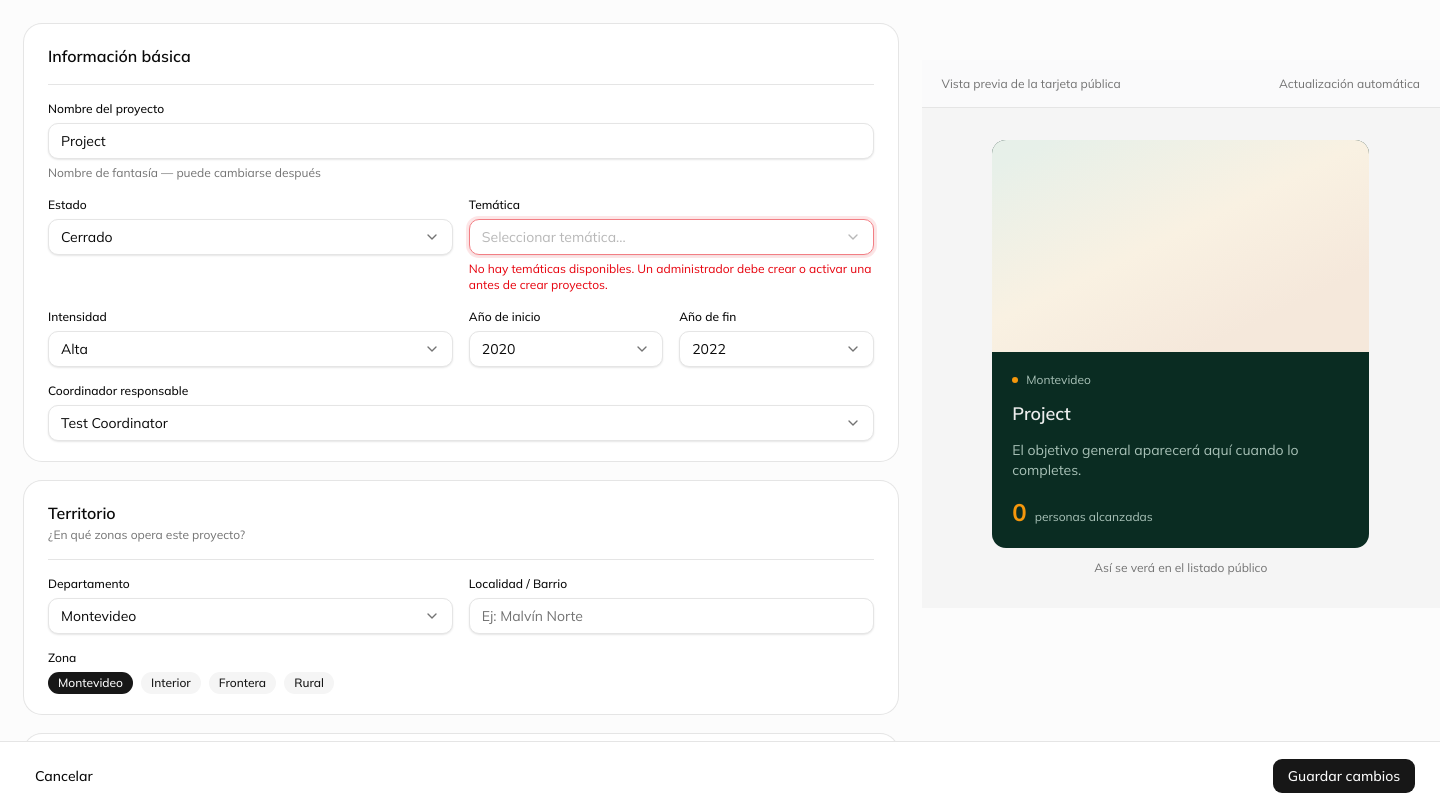
Test: limits the start year to the closing year and restores later years when reopened
The image size is (1440, 810).
Click the dropdown named "Año de inicio" at [566, 349], box [469,331,663,367]
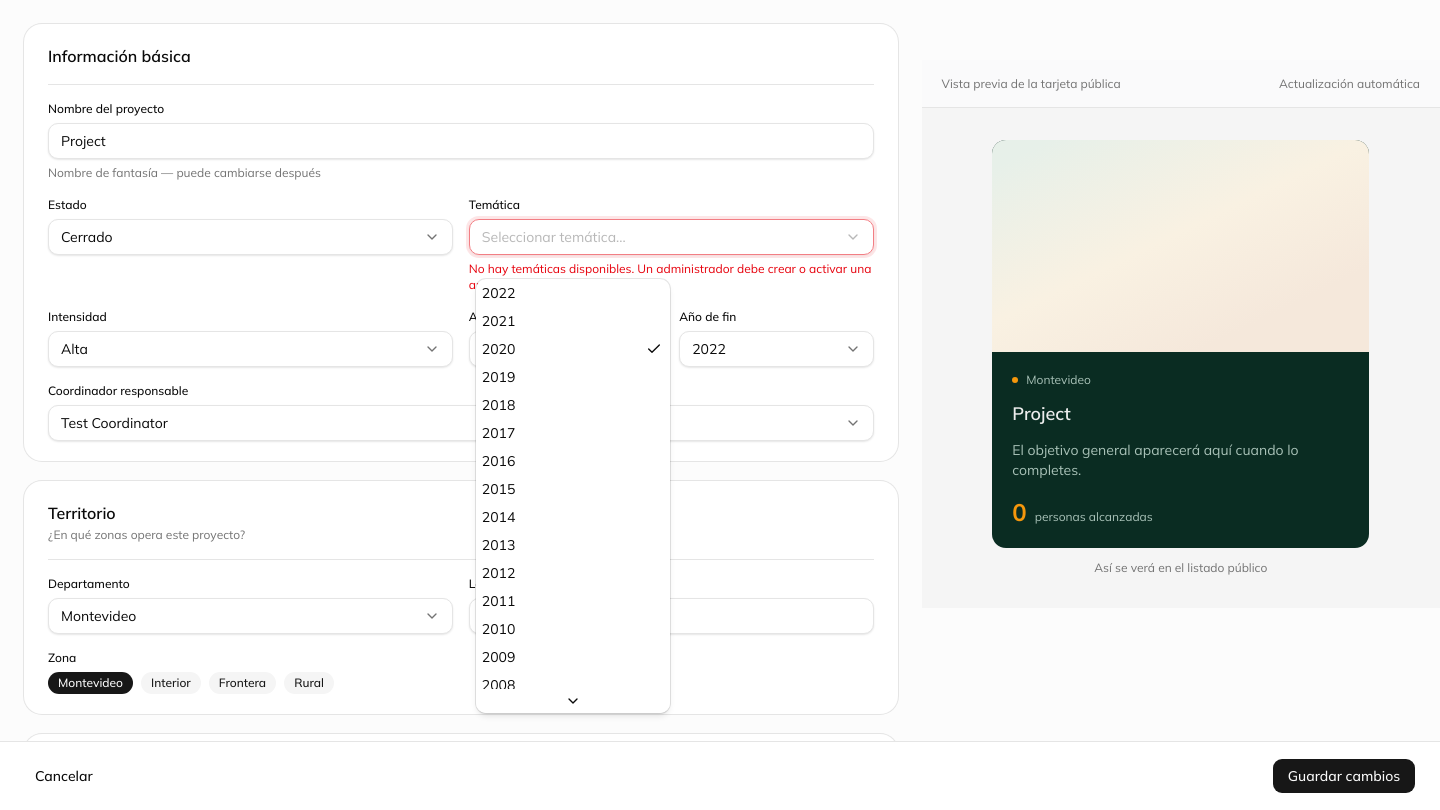
Expected: the option "2023" is not shown
Expected: the option "2022" is shown, [482,284,515,302]
Expected: the option "2020" is shown
Press Enter in the option "2020", box [476,335,670,363]
Click the dropdown named "Estado" at [87, 237], box [48,219,453,255]
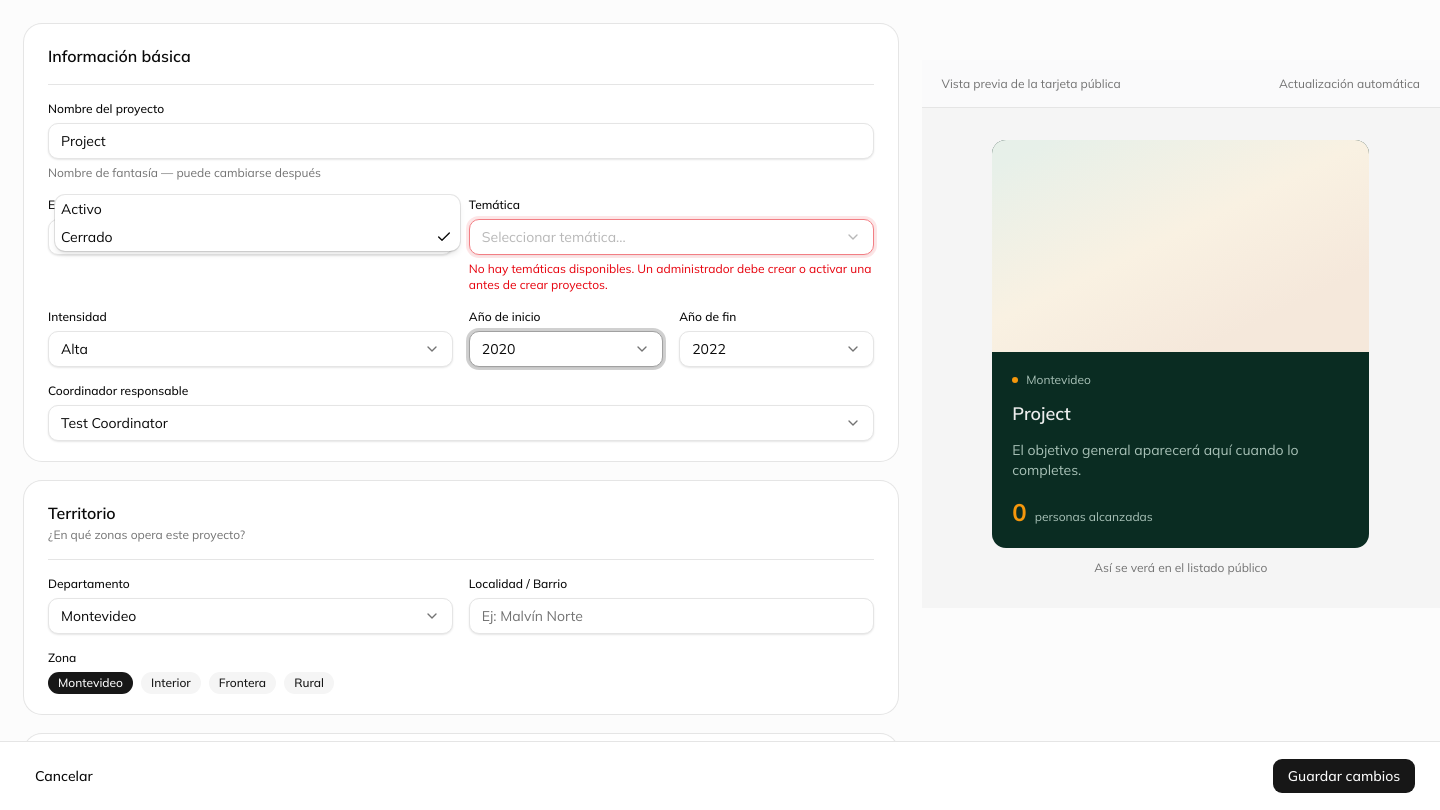
Press Enter in the option "Activo", box [61,200,102,218]
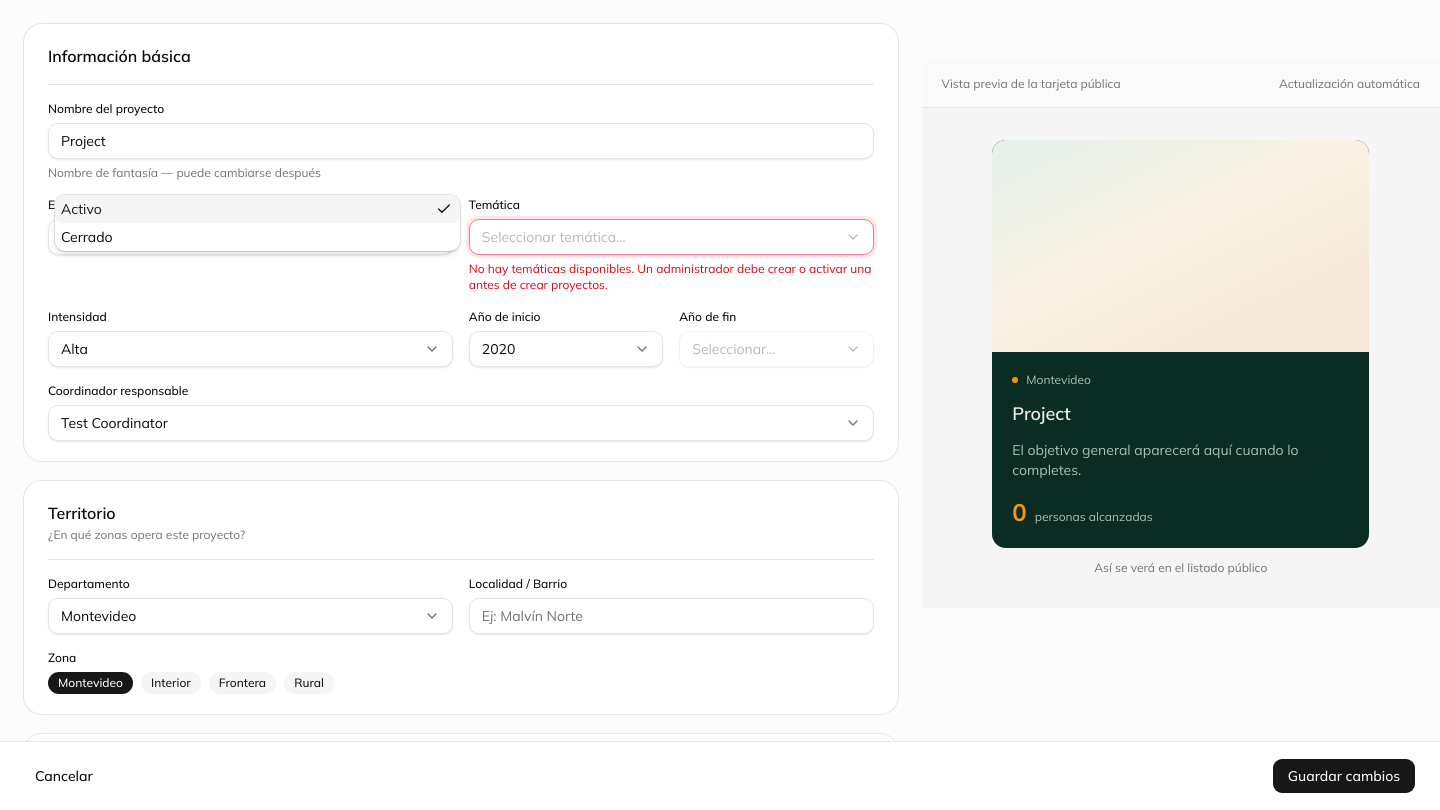
Click the dropdown named "Año de inicio" at [566, 349], box [469,331,663,367]
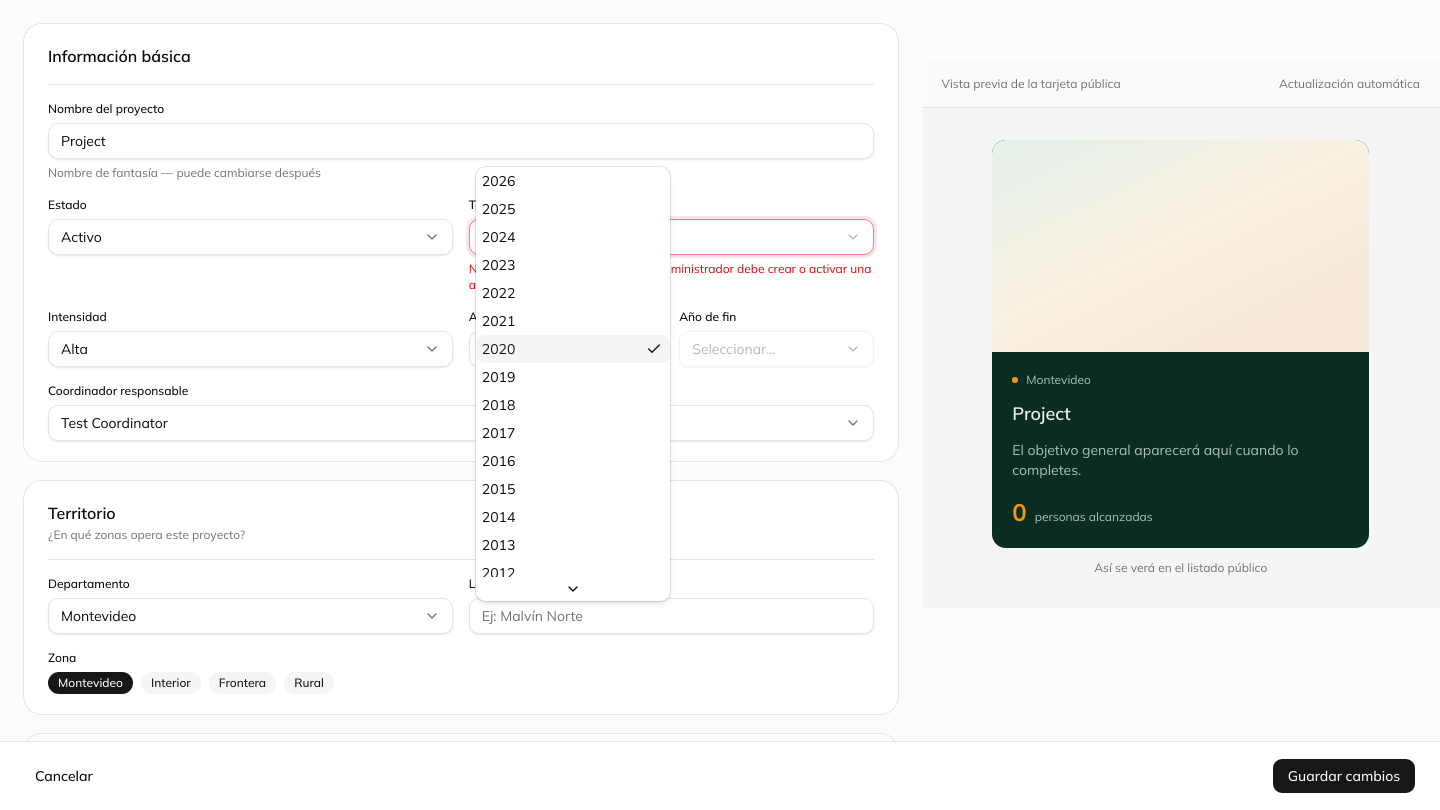
Expected: the option "2026" is shown, [482,172,515,190]
